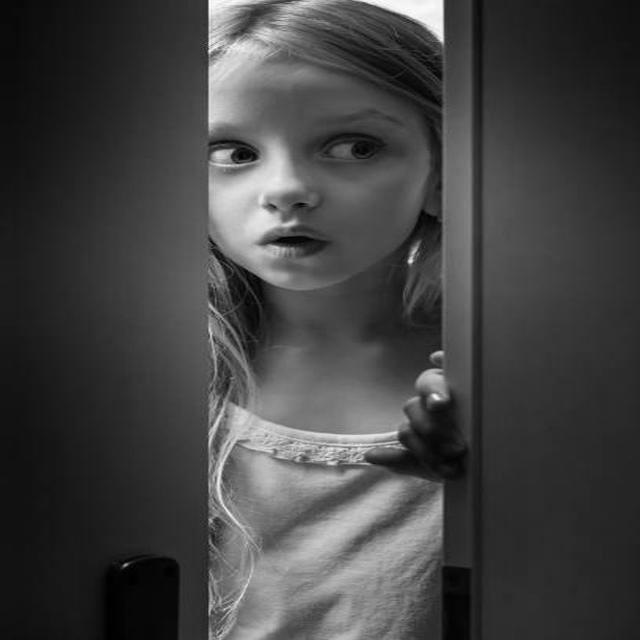Fear: (188, 56, 432, 291)
